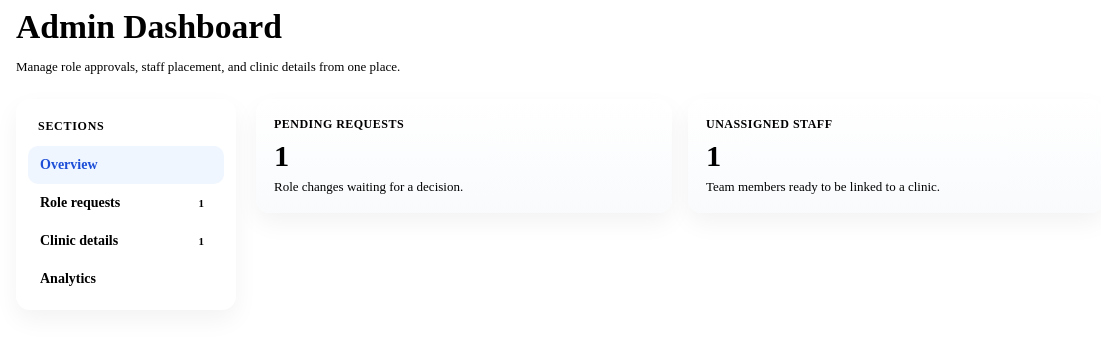
it: AdminDashboard › rejects a role request and removes it from the table
Click the button "Role requests 1" at [126, 203], box [28, 184, 224, 222]
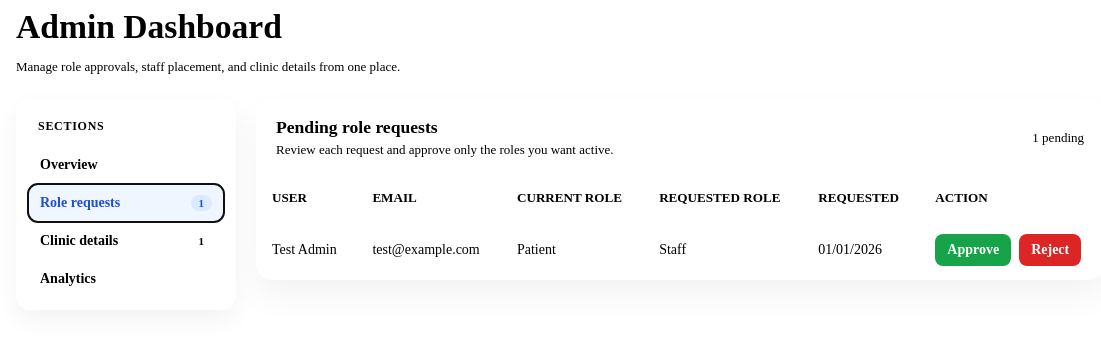
Click the button "Reject" at [1050, 250], box [1019, 234, 1081, 266]
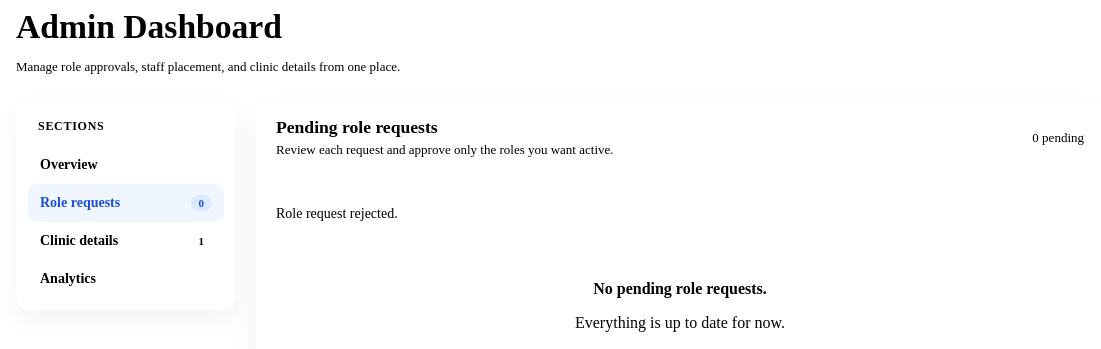
Expected: the text "Role request rejected." is shown, [276, 206, 398, 221]
Expected: the text "Test Admin" is gone
